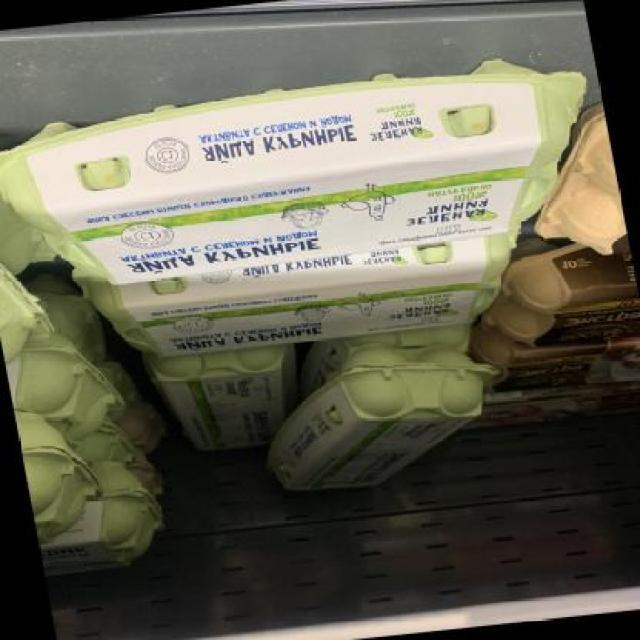egg: (0, 49, 612, 293), (82, 225, 532, 362), (150, 342, 310, 462)
